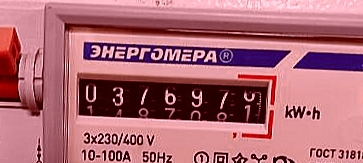0: (84, 81, 99, 103)
1: (241, 103, 254, 123)
3: (111, 85, 126, 107)
6: (163, 82, 179, 106)
7: (136, 83, 152, 106), (217, 87, 231, 110)
9: (189, 85, 204, 109)
screen: (67, 63, 280, 143)
